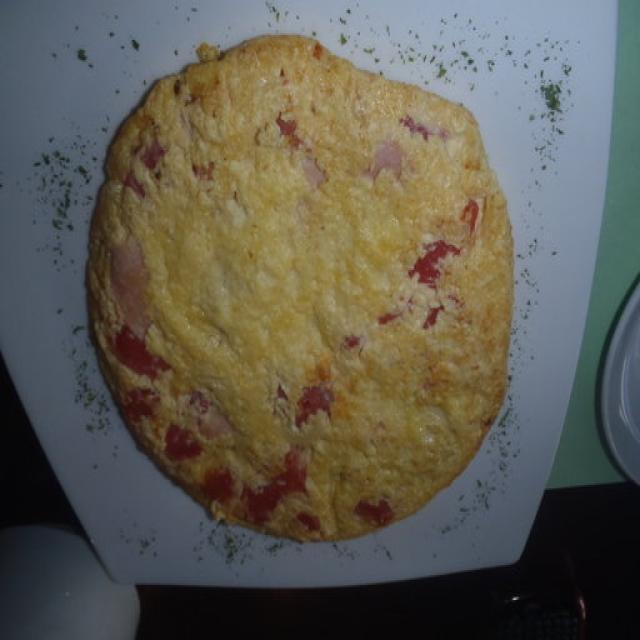telur_ayam_dadar: (84, 35, 515, 547)
